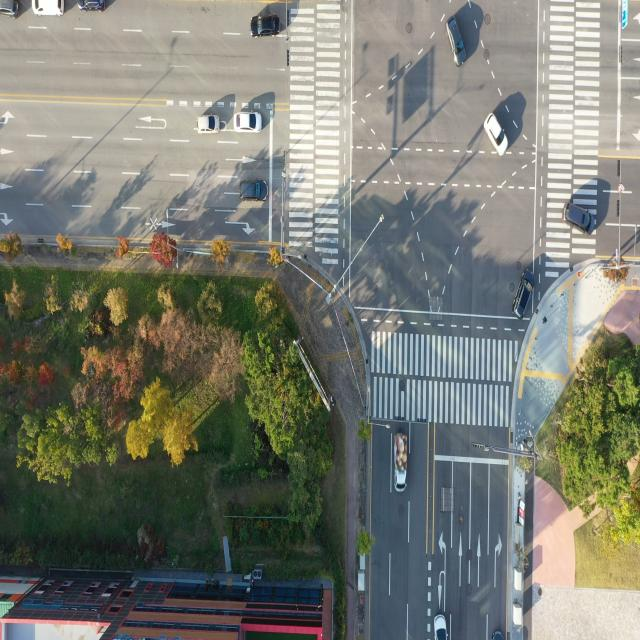car: (563, 198, 597, 238), (515, 264, 538, 322), (447, 16, 468, 68), (485, 114, 510, 156), (247, 16, 282, 40), (240, 180, 268, 202), (30, 0, 64, 18), (235, 111, 262, 132), (198, 113, 222, 133), (0, 0, 22, 21), (79, 0, 109, 13), (435, 615, 450, 640), (490, 630, 506, 640)
small_truck: (392, 418, 408, 494)
